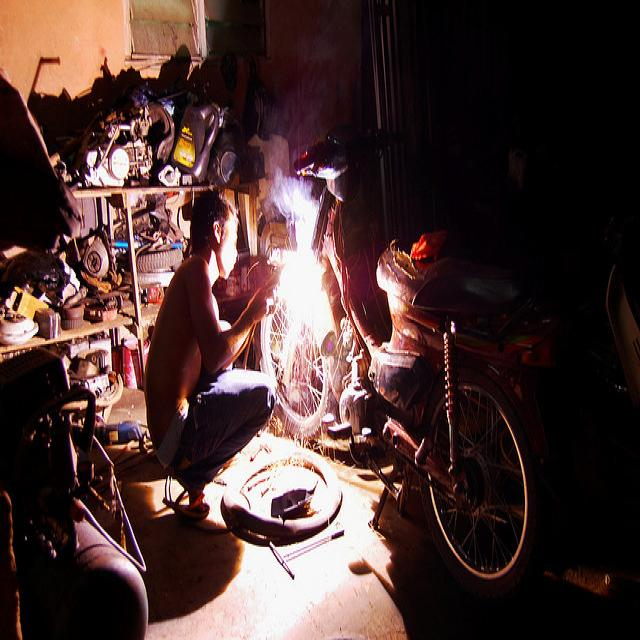Motorbike: (245, 199, 568, 580), (0, 347, 208, 596)
